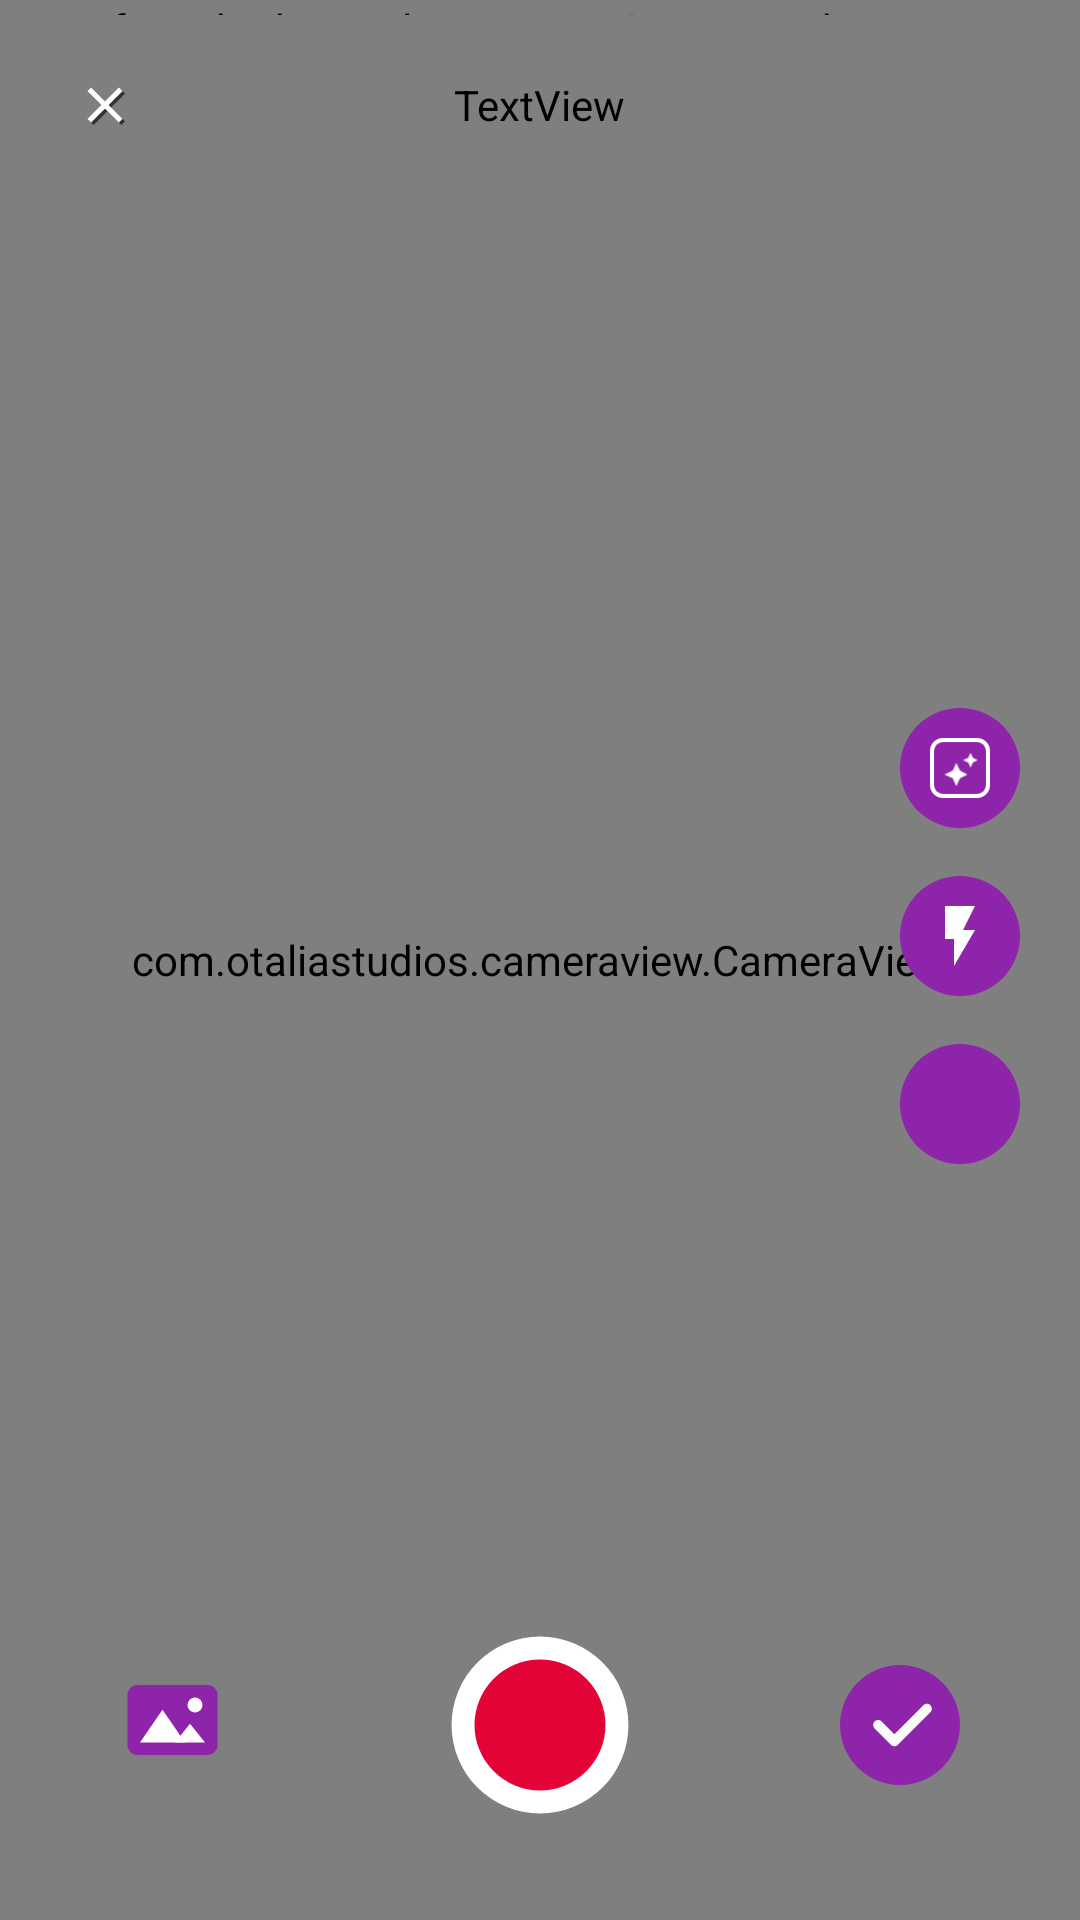

Locate icon controls on the screen. Image size 1080*1920, boxes as (x1, y1, x2, y2).
Close: (88, 88, 125, 125)
filter: (900, 708, 1020, 828)
flash: (900, 876, 1020, 996)
gallery: (127, 1685, 218, 1755)
submit: (840, 1665, 960, 1785)
